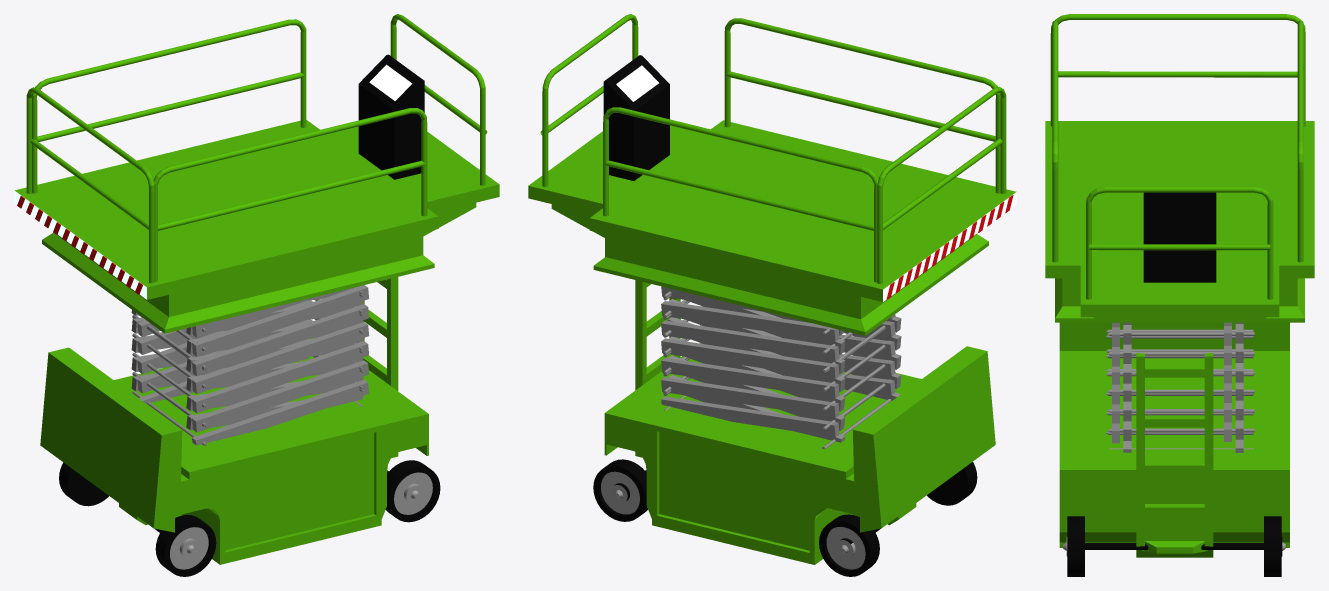
The model's file is lifter 2.fbx.
3 renders of one model, left to right at view 1: azimuth 30°, elevation 25°; view 2: azimuth 150°, elevation 25°; view 3: azimuth 270°, elevation 25°, orthographic.
Parts seen in each view (by area): view 1: Cube.006, Cylinder.005, Cube.002; view 2: Cube.006, Cylinder.005, Cube.002; view 3: Cube.006, Cylinder.005, Cube.002.
Part boxes in pixels (left/top/right/bottom): Cube.006: left=14, top=14, right=499, bottom=333; Cylinder.005: left=40, top=277, right=440, bottom=576; Cube.002: left=131, top=285, right=369, bottom=445; Cube.006: left=528, top=14, right=1016, bottom=335; Cylinder.005: left=593, top=280, right=995, bottom=576; Cube.002: left=661, top=286, right=901, bottom=448; Cube.006: left=1045, top=14, right=1314, bottom=322; Cylinder.005: left=1059, top=322, right=1289, bottom=576; Cube.002: left=1106, top=322, right=1254, bottom=452.
Bounding box in the file's own units: 283 × 306 × 175.
